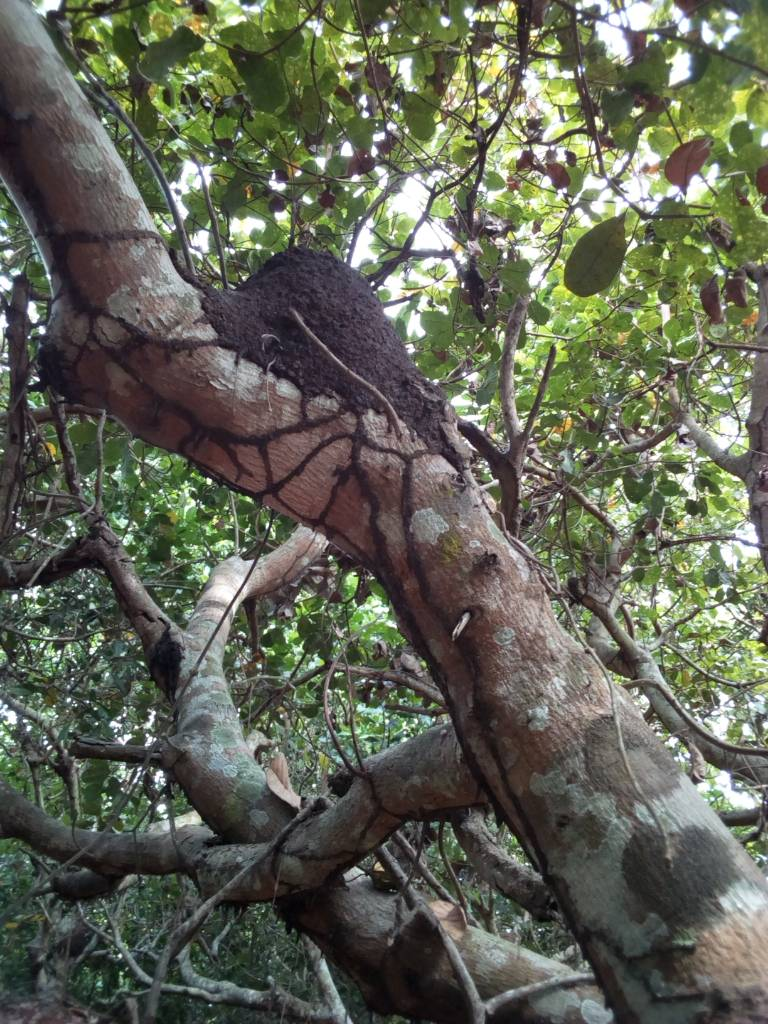Termites: (205, 249, 447, 436)
